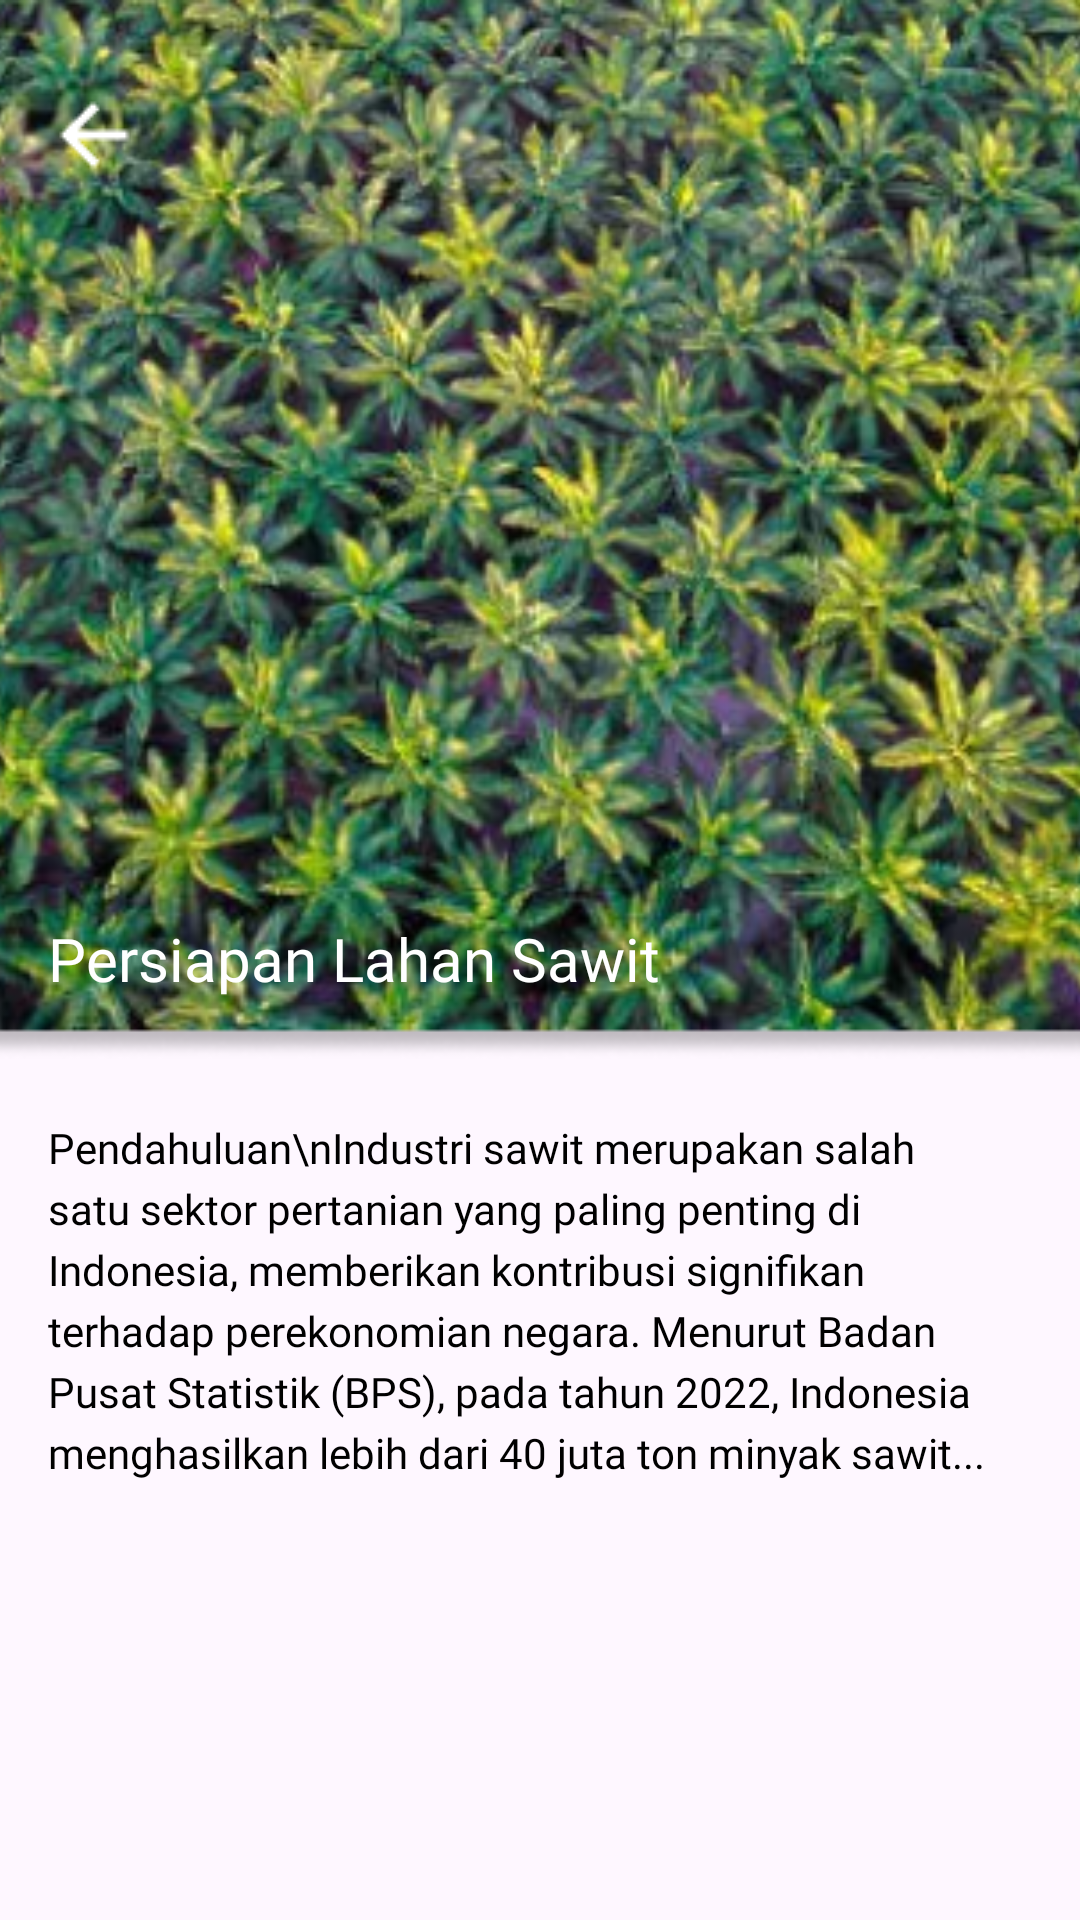

Icons on this 1080x1920 Android screen, each with the point to tap as (x=x, y=y):
kembali isi artikel: (x=93, y=135)
